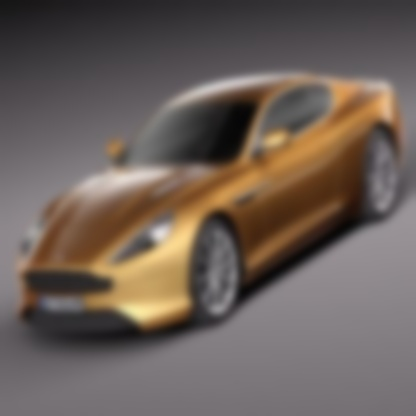Vehicle: (15, 72, 408, 342)
